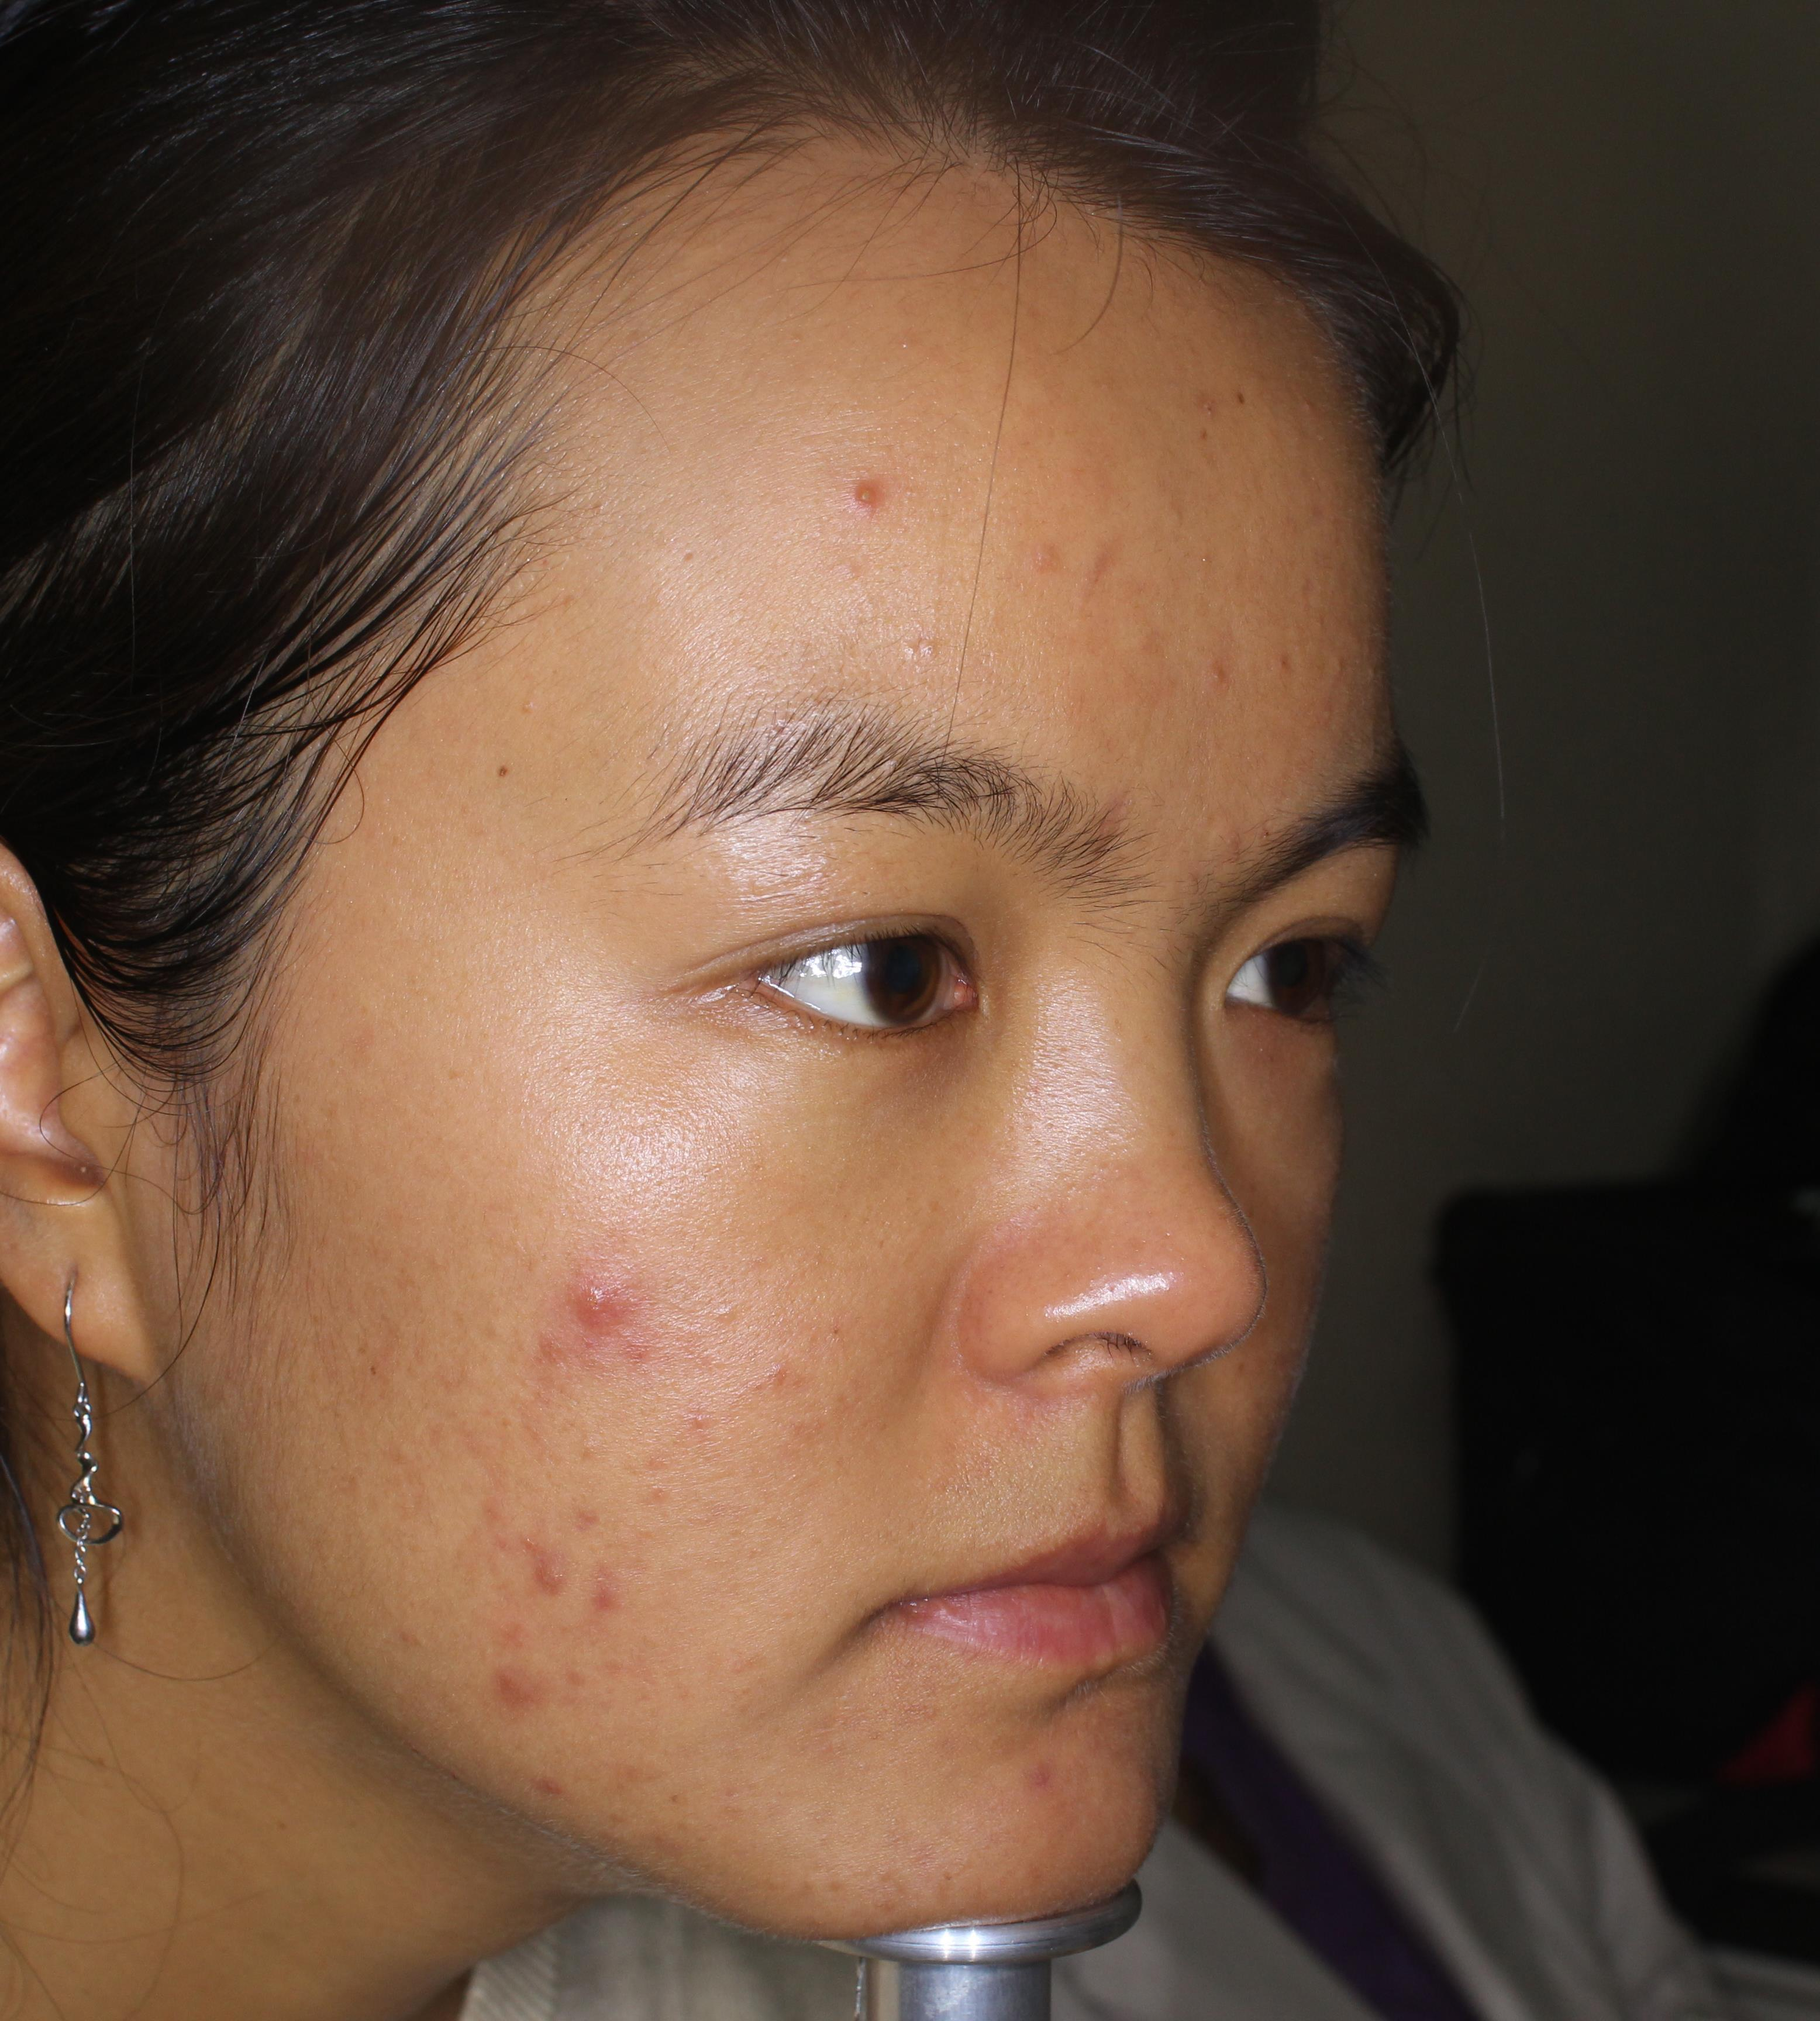fore: (548, 1231, 673, 1361), (571, 1536, 655, 1652), (1051, 506, 1131, 616), (471, 1643, 557, 1737), (490, 1531, 571, 1608), (826, 469, 898, 544), (1001, 1715, 1068, 1786)
